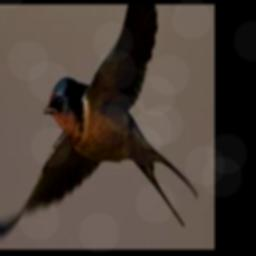Swallow: (0, 4, 197, 249)
